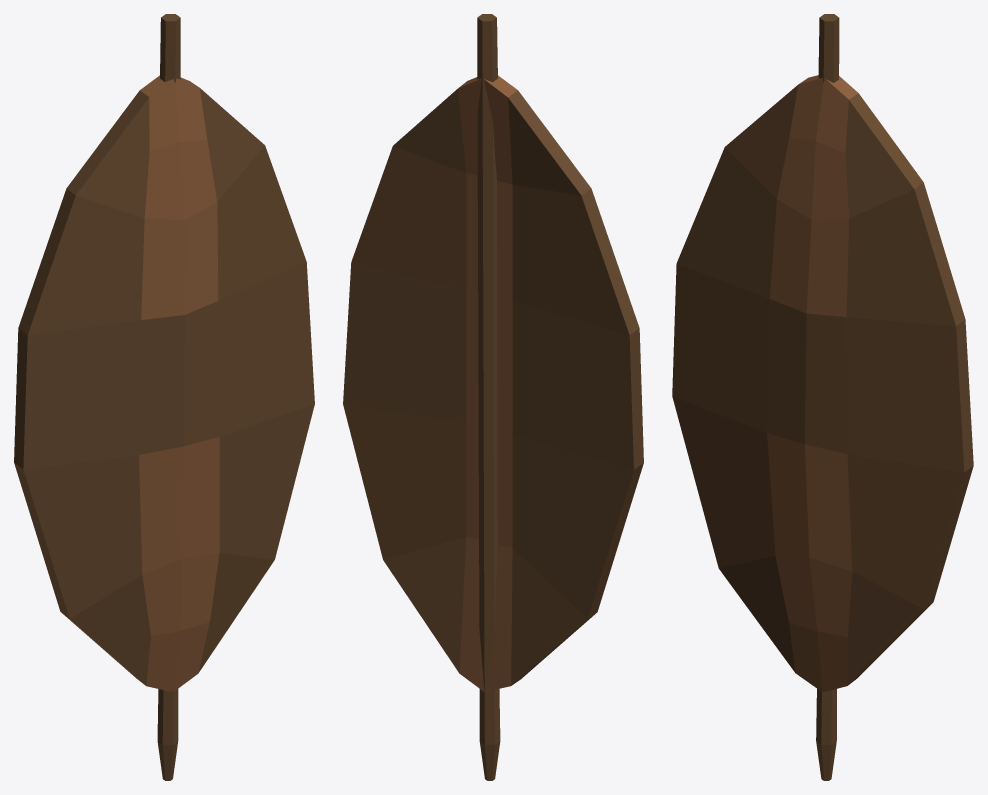
The model's file is shield-zulu.fbx.
The picture shows the model from 3 angles, left to right: view 1: azimuth 30°, elevation 25°; view 2: azimuth 150°, elevation 25°; view 3: azimuth 330°, elevation 25°; orthographic projection.
Parts seen in each view (by area): view 1: shield-zulu; view 2: shield-zulu; view 3: shield-zulu.
Boxes of the visible parts, x1,y1,x2,y2 form: shield-zulu: (14, 14, 314, 780); shield-zulu: (343, 14, 643, 780); shield-zulu: (672, 14, 973, 780).
Bounding box in the file's own units: 0.7486 × 1.87 × 0.1069.
